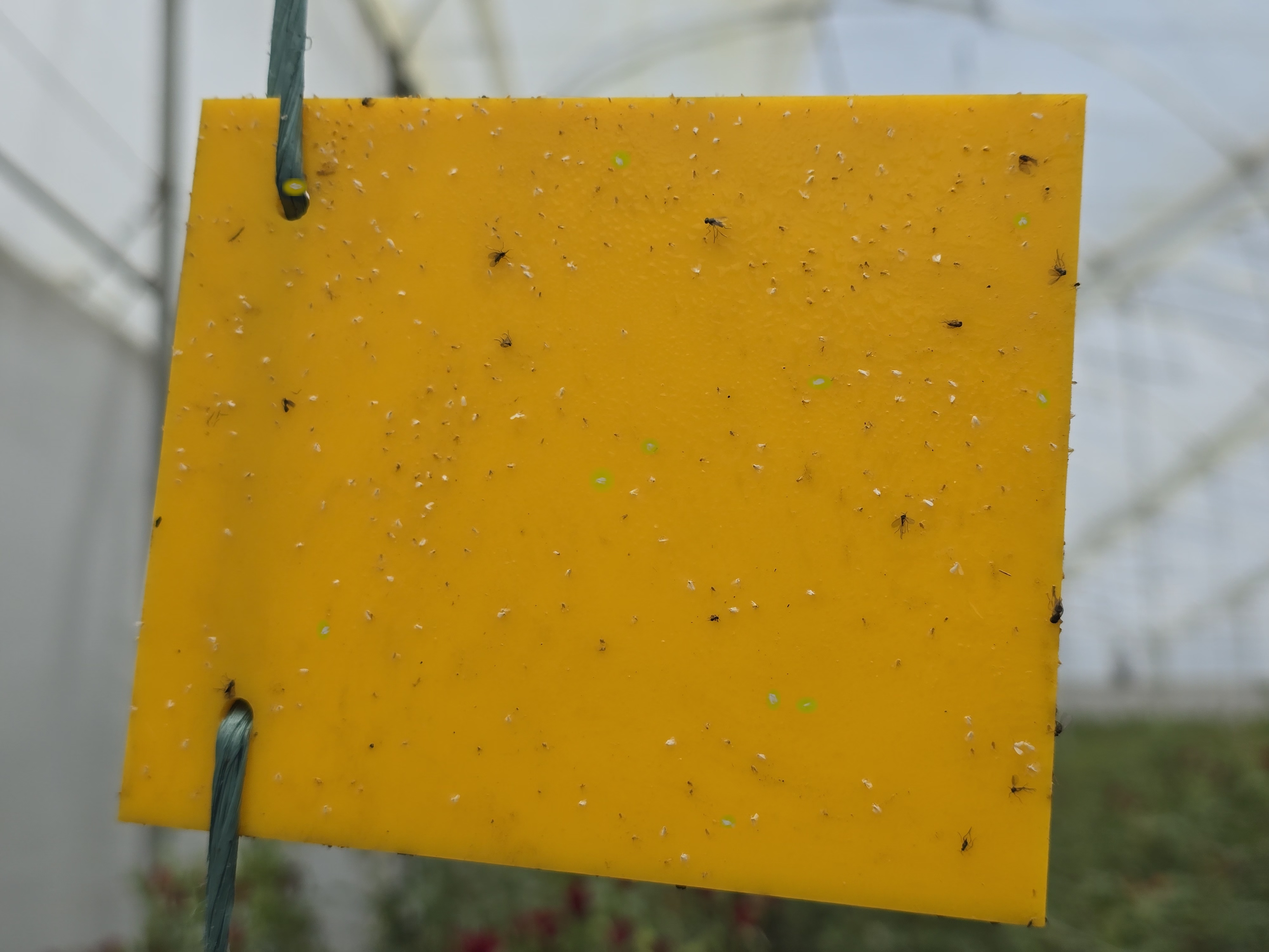WF: (592, 471, 611, 489), (856, 367, 873, 382), (947, 559, 962, 576), (860, 778, 877, 792), (383, 237, 399, 251), (286, 181, 304, 193), (685, 579, 699, 594), (613, 152, 628, 166), (798, 699, 815, 711), (731, 116, 745, 130), (870, 803, 884, 817), (565, 260, 580, 273), (752, 463, 767, 476), (810, 377, 829, 387), (665, 737, 679, 750), (969, 415, 982, 429), (946, 378, 961, 390), (642, 440, 657, 452), (768, 691, 779, 707), (509, 413, 526, 423), (1027, 112, 1044, 122), (1015, 214, 1028, 227), (890, 368, 904, 380), (1038, 391, 1049, 406), (312, 442, 324, 455), (690, 265, 703, 277), (800, 189, 812, 202), (1024, 741, 1037, 753), (1047, 441, 1059, 454), (750, 813, 761, 827), (922, 498, 936, 509), (962, 731, 976, 742), (1026, 763, 1040, 774), (460, 394, 470, 409), (318, 622, 328, 637), (352, 179, 364, 191), (448, 167, 460, 179), (963, 714, 975, 726), (532, 187, 545, 198), (851, 235, 864, 246), (234, 327, 248, 337), (660, 825, 670, 839), (1010, 747, 1025, 756), (424, 501, 436, 512), (946, 395, 957, 407), (872, 487, 883, 499), (450, 794, 463, 804), (679, 854, 692, 864), (523, 271, 536, 281), (767, 288, 780, 298), (418, 538, 429, 549), (932, 255, 943, 266), (731, 577, 742, 588), (307, 394, 319, 404), (385, 575, 397, 585), (628, 488, 640, 498), (174, 350, 187, 359), (728, 606, 741, 615), (757, 443, 770, 452), (206, 320, 217, 330), (227, 400, 238, 410), (178, 462, 188, 473), (411, 417, 421, 428), (394, 518, 405, 528), (504, 713, 514, 724), (561, 156, 572, 166), (1022, 443, 1032, 454), (722, 816, 733, 826), (261, 356, 273, 365), (577, 799, 589, 808), (755, 752, 767, 761), (564, 567, 573, 579), (688, 153, 700, 162), (489, 130, 501, 139), (708, 111, 717, 123), (781, 111, 793, 120), (805, 589, 817, 598), (806, 175, 816, 185), (242, 301, 253, 310), (167, 699, 176, 710), (208, 636, 219, 645), (300, 667, 311, 676), (380, 171, 391, 180), (203, 352, 215, 360), (397, 291, 409, 299), (520, 264, 532, 272), (176, 447, 187, 455), (286, 281, 297, 289), (414, 623, 425, 631), (692, 126, 700, 137), (496, 612, 508, 619), (415, 481, 424, 490), (713, 137, 722, 146), (712, 169, 721, 178), (442, 474, 450, 484), (575, 103, 586, 110), (1013, 741, 1024, 748), (315, 112, 323, 121), (407, 122, 414, 132), (673, 125, 681, 133), (374, 228, 383, 235), (553, 551, 562, 558), (852, 116, 859, 125), (237, 295, 247, 301), (808, 169, 816, 176), (849, 99, 854, 109), (333, 579, 340, 586), (371, 219, 377, 225)
